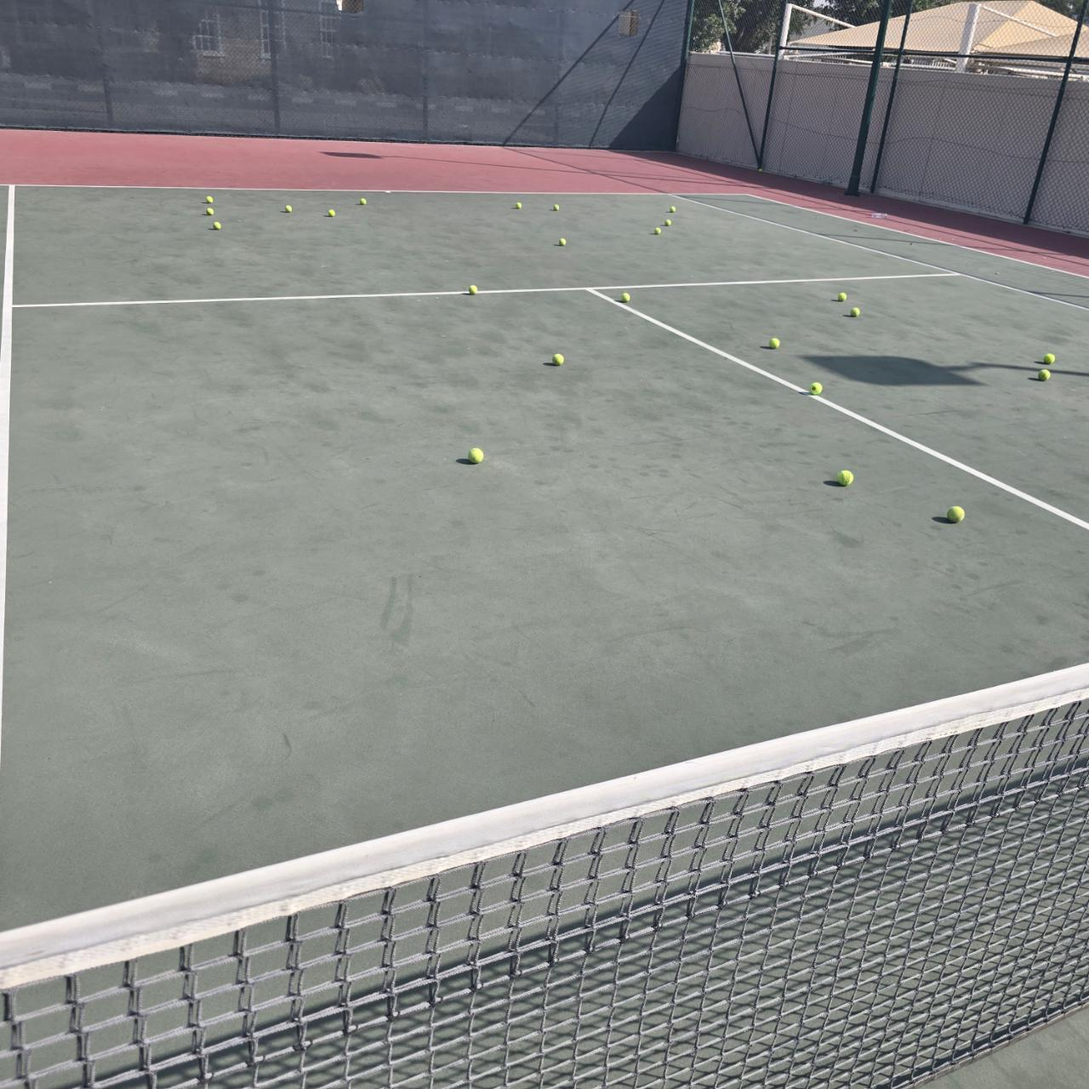tennis-ball: (945, 503, 965, 522), (836, 467, 853, 486), (468, 448, 484, 463), (809, 382, 822, 395), (552, 353, 564, 366), (1038, 369, 1050, 381), (1043, 353, 1055, 364), (767, 338, 780, 348), (850, 307, 860, 317), (621, 292, 631, 302), (838, 292, 847, 302), (469, 285, 477, 295), (328, 209, 336, 217), (213, 222, 221, 230), (559, 238, 566, 246), (285, 205, 292, 213), (206, 208, 214, 215), (654, 227, 661, 234), (669, 206, 676, 213), (360, 198, 367, 205), (206, 196, 213, 203), (665, 220, 672, 226), (516, 202, 522, 209), (554, 204, 559, 211)
